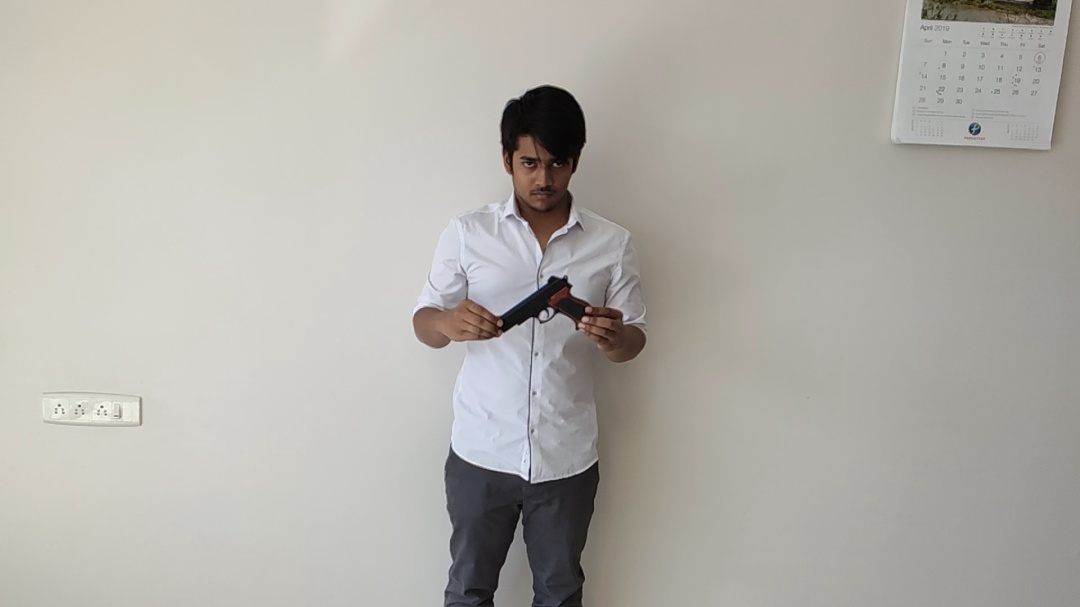gun: (491, 275, 590, 332)
